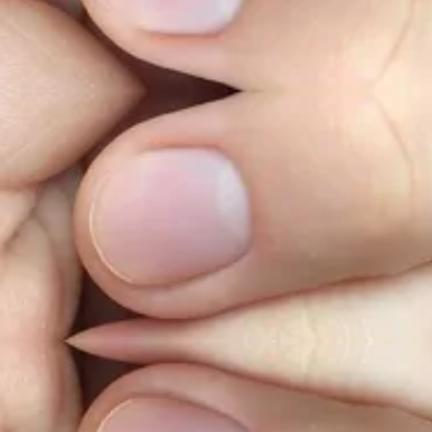Nail: (89, 150, 248, 283), (98, 398, 245, 432), (102, 0, 244, 30)
